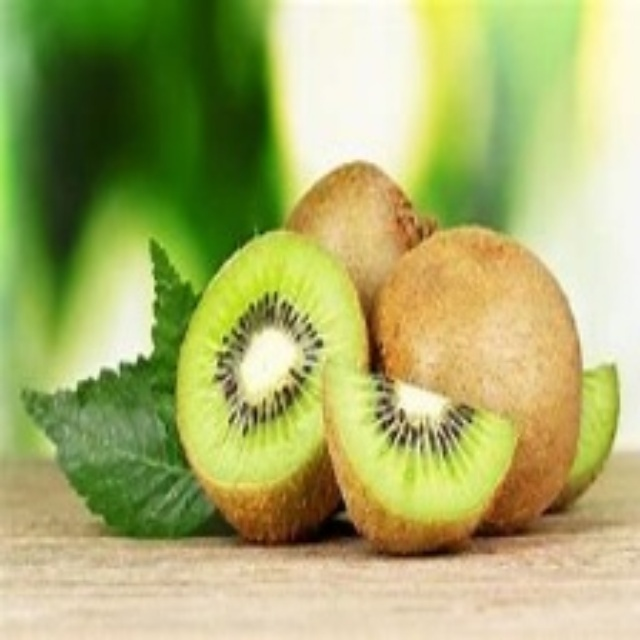kiwi: (374, 231, 619, 507), (178, 235, 365, 538), (311, 361, 521, 556)
